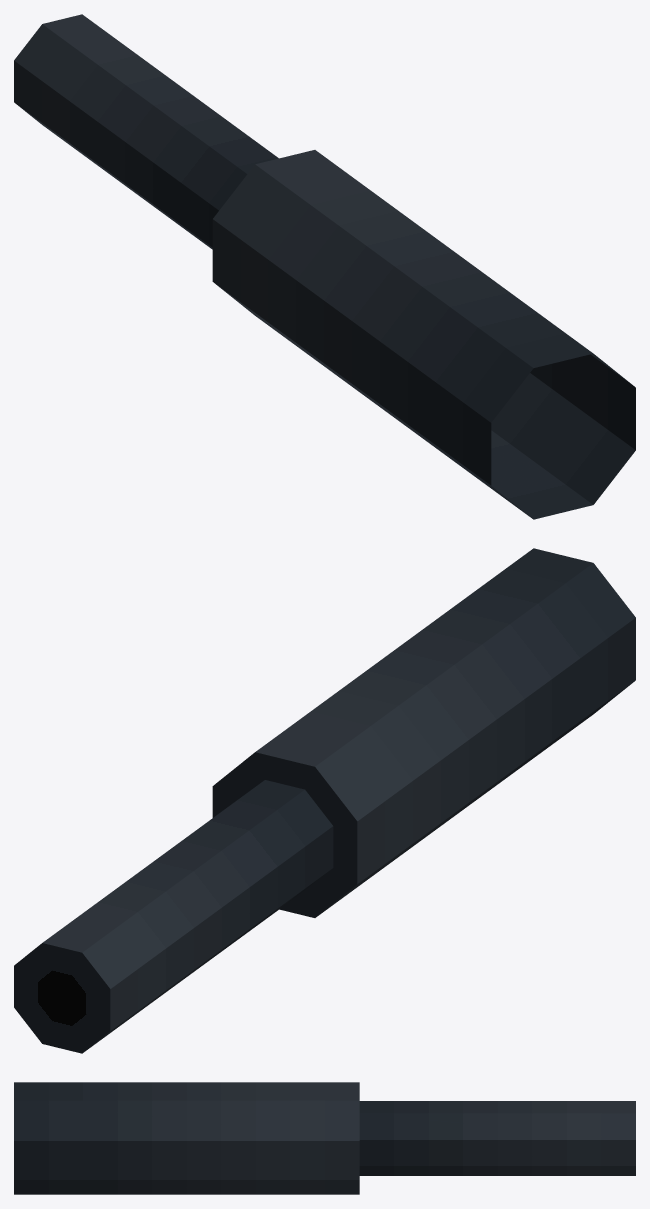
The model's file is cannon2_barrel.gltf.
The picture shows the model from 3 angles, top to bottom: view 1: azimuth 30°, elevation 25°; view 2: azimuth 150°, elevation 25°; view 3: azimuth 270°, elevation 25°; orthographic projection. The views are drawn at different scales.
Parts seen in each view (by area): view 1: barrel_cyl_1, barrel_cyl_2; view 2: barrel_cyl_1, barrel_cyl_2; view 3: barrel_cyl_1, barrel_cyl_2.
Part boxes in pixels (box(x1,y1,x2,y2)): barrel_cyl_1: box(212, 150, 635, 519); barrel_cyl_2: box(14, 14, 278, 249); barrel_cyl_1: box(212, 548, 635, 917); barrel_cyl_2: box(14, 780, 333, 1053); barrel_cyl_1: box(14, 1082, 359, 1194); barrel_cyl_2: box(359, 1101, 635, 1175).
Bounding box in the file's own units: 1.88 × 1.88 × 11.25.
Materials: 1 (1 with a texture image).
